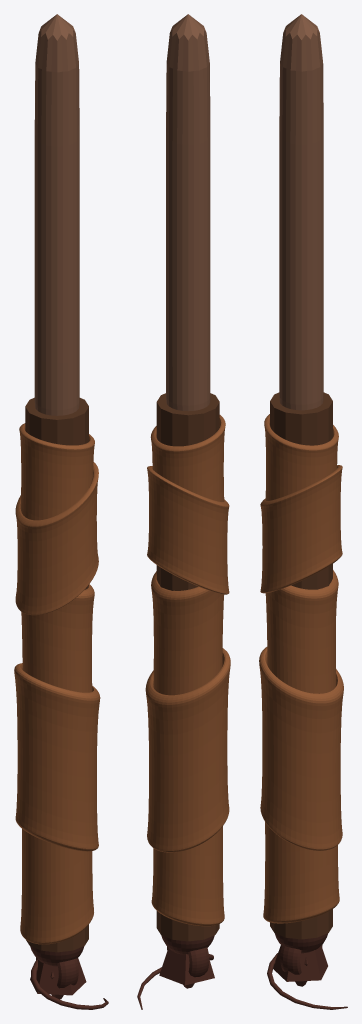
Rendered from Wand 319.glb.
3 renders of one model, left to right at view 1: azimuth 30°, elevation 25°; view 2: azimuth 210°, elevation 25°; view 3: azimuth 330°, elevation 25°, orthographic.
Parts seen in each view (by area): view 1: GeneratedWand, Pommel_9, Pommel_4, Pommel_2, Pommel_10; view 2: GeneratedWand, Pommel_9, Pommel_4, Pommel_2; view 3: GeneratedWand, Pommel_9, Pommel_4, Pommel_2, Pommel_10.
Part boxes in pixels (x1=…): GeneratedWand: x1=14, y1=14, x2=107, y2=1005; Pommel_9: x1=30, y1=958, x2=86, y2=995; Pommel_4: x1=30, y1=946, x2=84, y2=966; Pommel_2: x1=36, y1=957, x2=78, y2=988; Pommel_10: x1=32, y1=960, x2=108, y2=1009; GeneratedWand: x1=138, y1=14, x2=230, y2=1009; Pommel_9: x1=159, y1=948, x2=214, y2=985; Pommel_4: x1=161, y1=935, x2=214, y2=954; Pommel_2: x1=167, y1=946, x2=209, y2=977; GeneratedWand: x1=259, y1=14, x2=347, y2=1007; Pommel_9: x1=273, y1=945, x2=327, y2=981; Pommel_4: x1=274, y1=933, x2=328, y2=953; Pommel_2: x1=280, y1=944, x2=322, y2=974; Pommel_10: x1=267, y1=953, x2=347, y2=1009.
Bounding box in the file's own units: 0.0462 × 0.521 × 0.0408.
